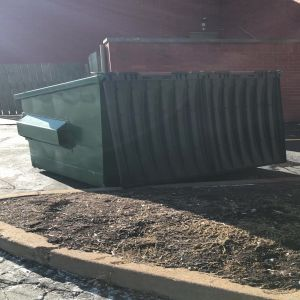Dumpster: (13, 72, 291, 184)
